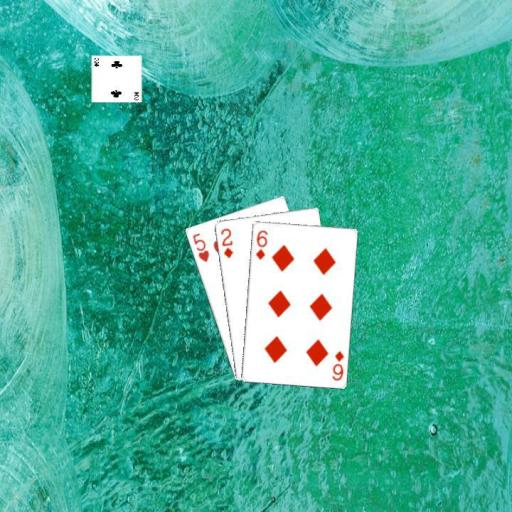2D: (218, 225, 234, 260)
5H: (189, 230, 211, 263)
6D: (252, 227, 269, 261), (328, 348, 345, 382)
